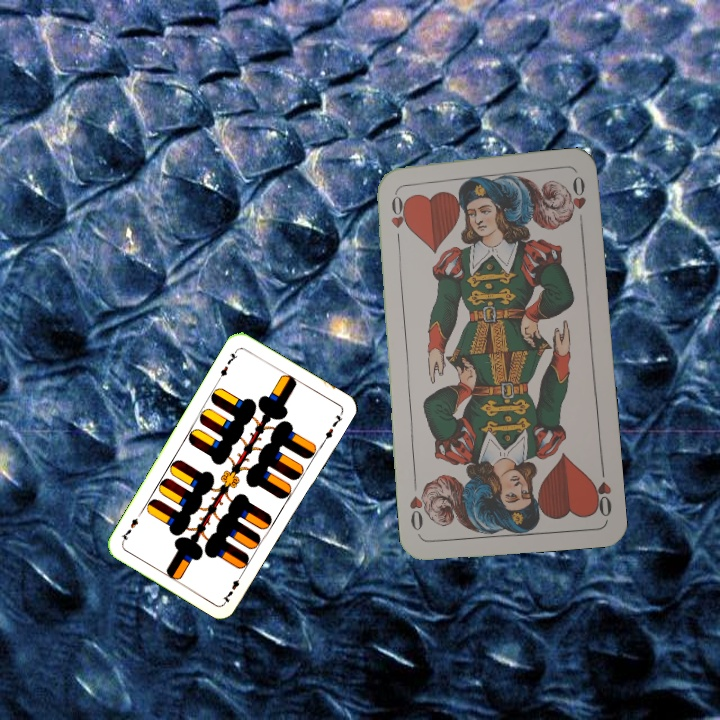E7: (219, 569, 246, 605), (215, 346, 240, 383)
HO: (588, 461, 615, 520), (387, 187, 407, 246)
